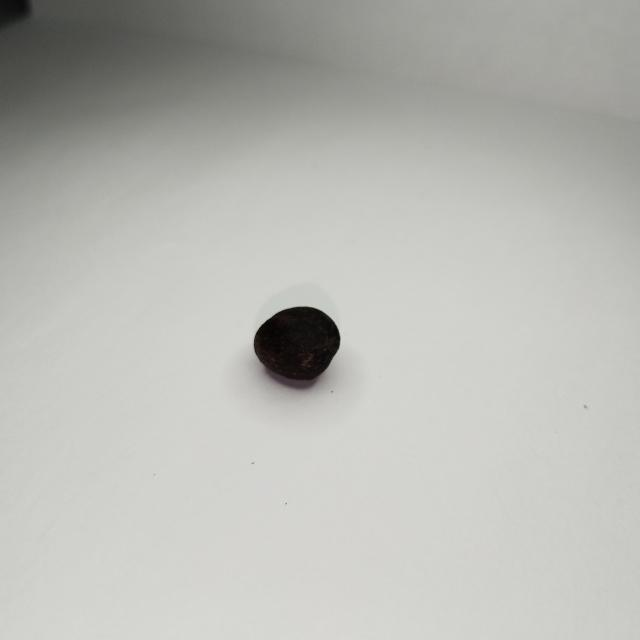Danado: (252, 302, 342, 387)
